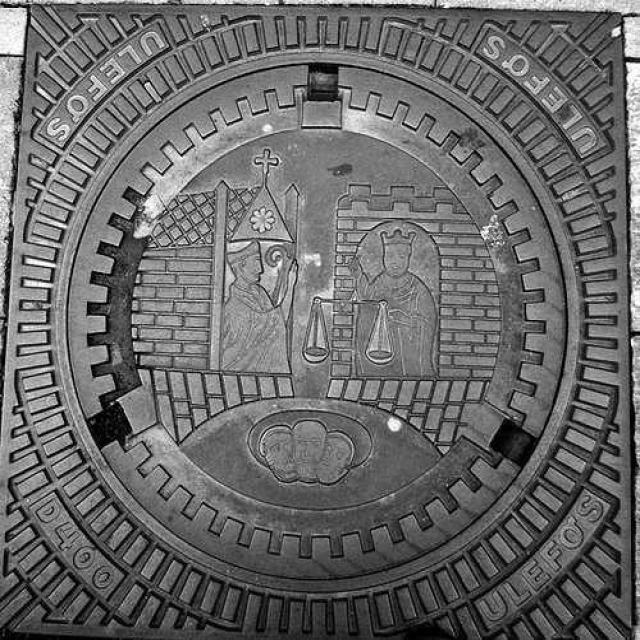manhole: (0, 6, 630, 637)
